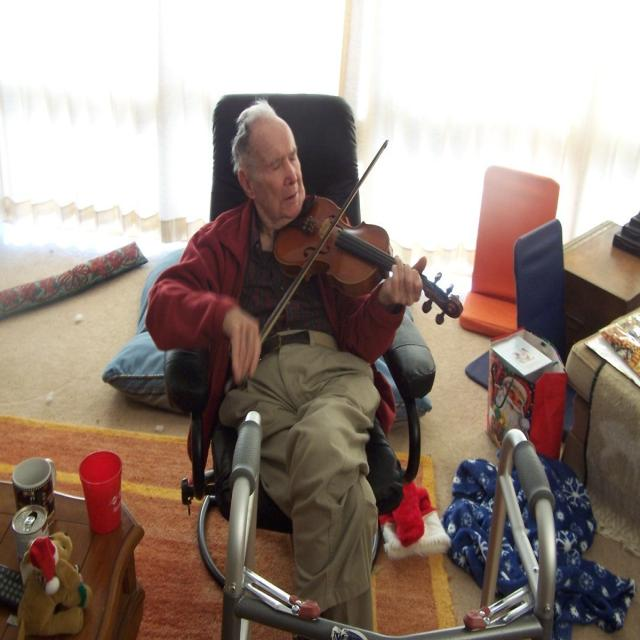violin: (272, 195, 463, 325)
